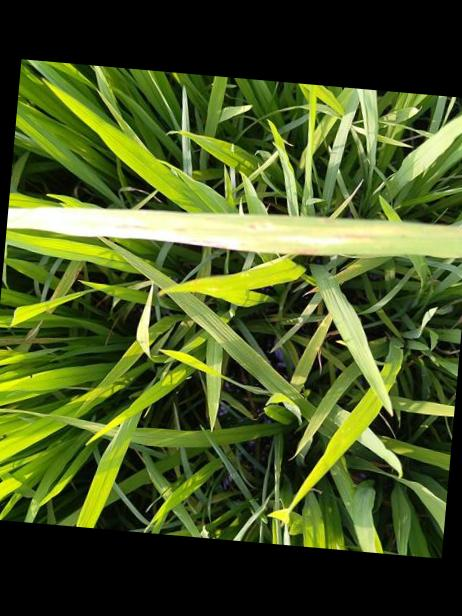Leaf Streak: (6, 205, 357, 253)
